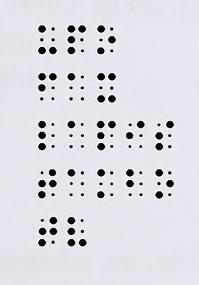letter_a: (67, 72, 85, 102), (67, 121, 85, 148), (68, 169, 84, 197)
letter_b: (126, 170, 144, 198)
letter_f: (38, 72, 58, 101)
letter_i: (125, 120, 145, 149)
letter_k: (97, 169, 114, 198)
letter_l: (39, 120, 55, 150)
letter_o: (97, 25, 116, 55), (155, 169, 174, 199)
letter_p: (96, 120, 116, 152), (67, 24, 87, 55)
letter_s: (155, 121, 174, 152)
letter_t: (39, 217, 57, 248), (39, 169, 57, 199)
letter_u: (38, 24, 57, 55)
letter_v: (67, 217, 87, 247)
letter_x: (96, 72, 116, 103)
